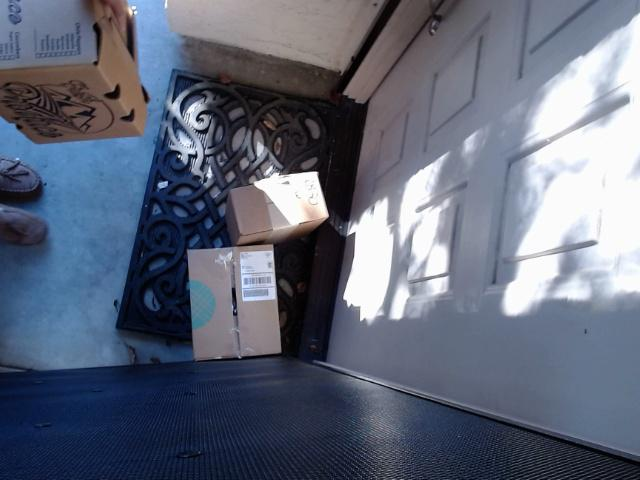box: (0, 0, 150, 144), (187, 243, 281, 360), (227, 172, 329, 247)
